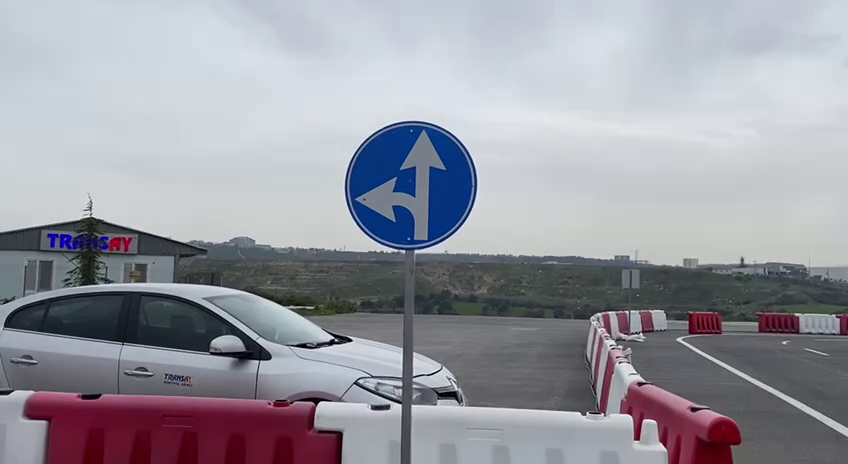forwardAndLeft: (342, 116, 482, 252)
